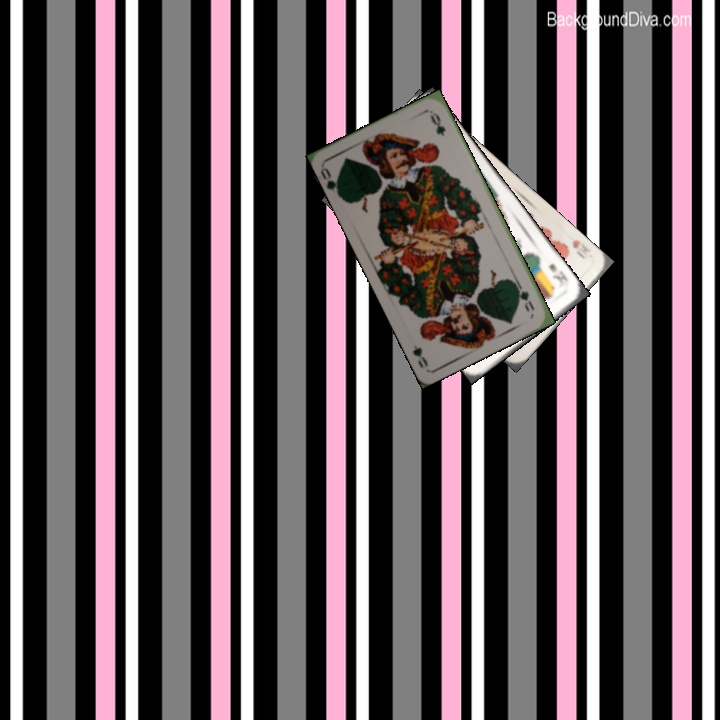EK: (544, 259, 572, 290)
GO: (317, 163, 344, 200), (511, 277, 537, 314)
H10: (568, 236, 592, 262)
